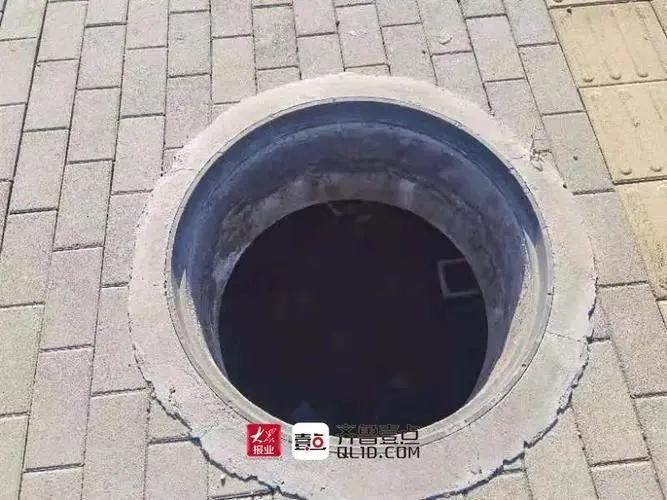wellcover: (168, 91, 558, 459)
